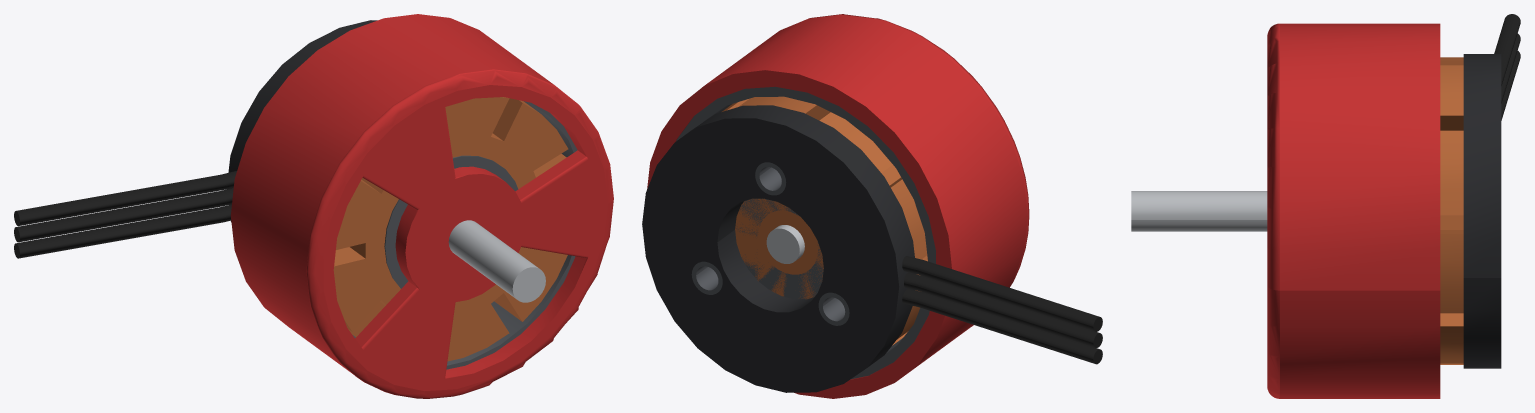
File: betafpv-1102-21000kv.glb
3 renders of one model, left to right at view 1: azimuth 30°, elevation 25°; view 2: azimuth 150°, elevation 25°; view 3: azimuth 270°, elevation 25°, orthographic. The views are drawn at different scales.
Parts seen in each view (by area): view 1: bell, stator_windings, shaft, lead_3, lead_2, lead_1, base, magnets, stator_core; view 2: base, bell, stator_windings, magnets, lead_3, lead_1, lead_2, stator_core, shaft, mount_hole_2, mount_hole_1, mount_hole_3; view 3: bell, base, stator_windings, shaft, lead_3, lead_2, lead_1.
Boxes of the visible parts, x1,y1,x2,y2 form: bell: [230, 14, 613, 398]; stator_windings: [333, 97, 568, 361]; shaft: [448, 220, 545, 302]; lead_3: [14, 171, 236, 226]; lead_2: [14, 188, 233, 242]; lead_1: [14, 204, 231, 258]; base: [227, 20, 377, 222]; magnets: [353, 101, 577, 369]; stator_core: [384, 155, 518, 288]; base: [642, 105, 915, 392]; bell: [647, 14, 1029, 398]; stator_windings: [722, 96, 927, 345]; magnets: [676, 86, 935, 379]; lead_3: [902, 256, 1102, 331]; lead_1: [902, 288, 1102, 364]; lead_2: [904, 272, 1102, 347]; stator_core: [736, 198, 823, 299]; shaft: [766, 225, 804, 263]; mount_hole_2: [818, 292, 849, 325]; mount_hole_1: [755, 162, 786, 195]; mount_hole_3: [691, 261, 722, 294]; bell: [1267, 23, 1440, 398]; base: [1463, 54, 1501, 368]; stator_windings: [1440, 57, 1463, 364]; shaft: [1131, 191, 1267, 231]; lead_3: [1494, 14, 1520, 85]; lead_2: [1501, 33, 1520, 103]; lead_1: [1501, 51, 1520, 120].
Size of the model in its own units: 21.94 by 13.8 by 14.32.
